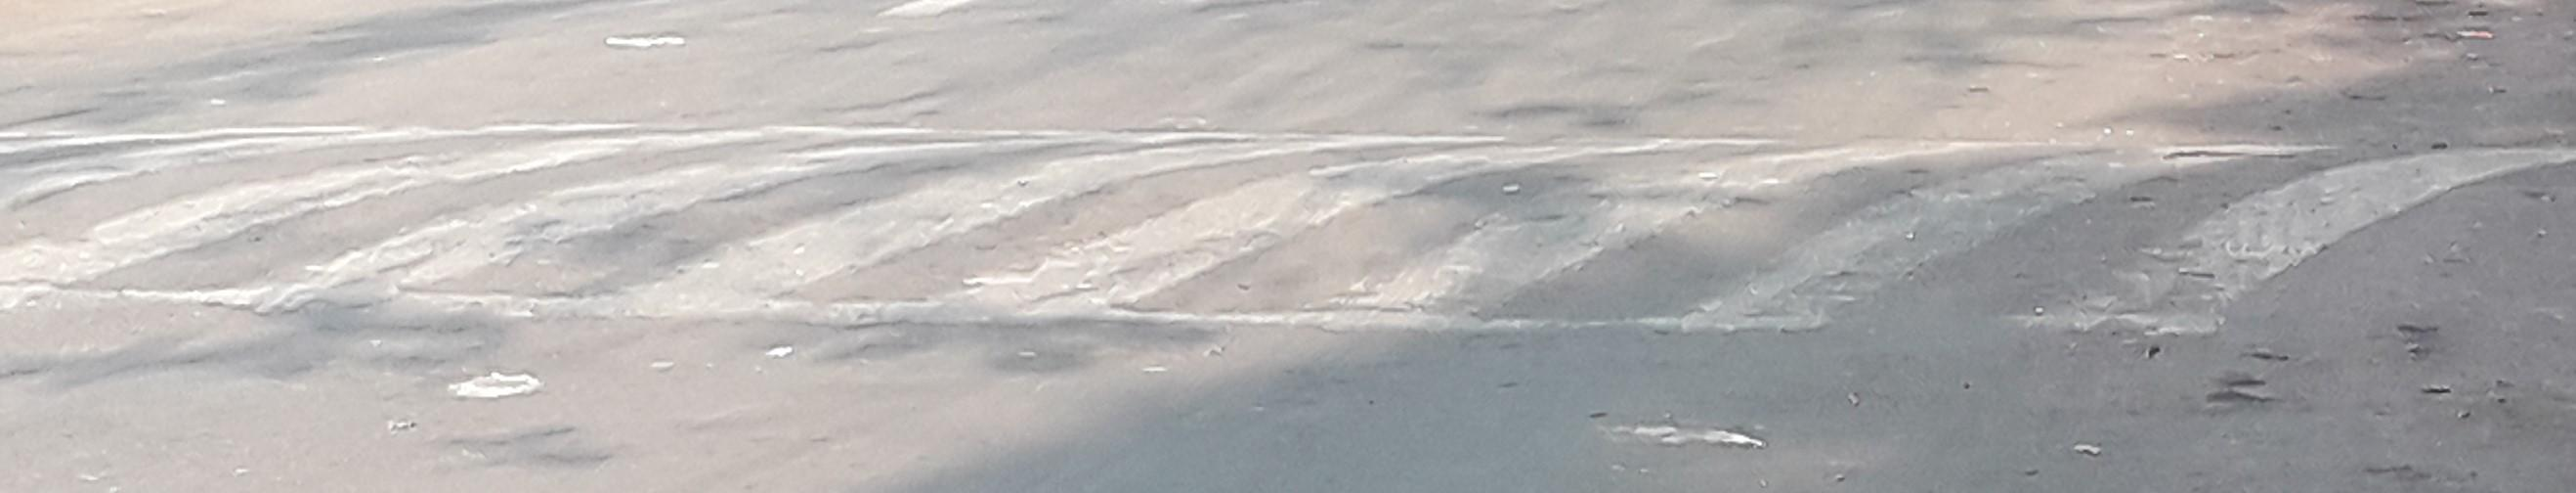speed-bump: (1, 112, 2567, 359)
